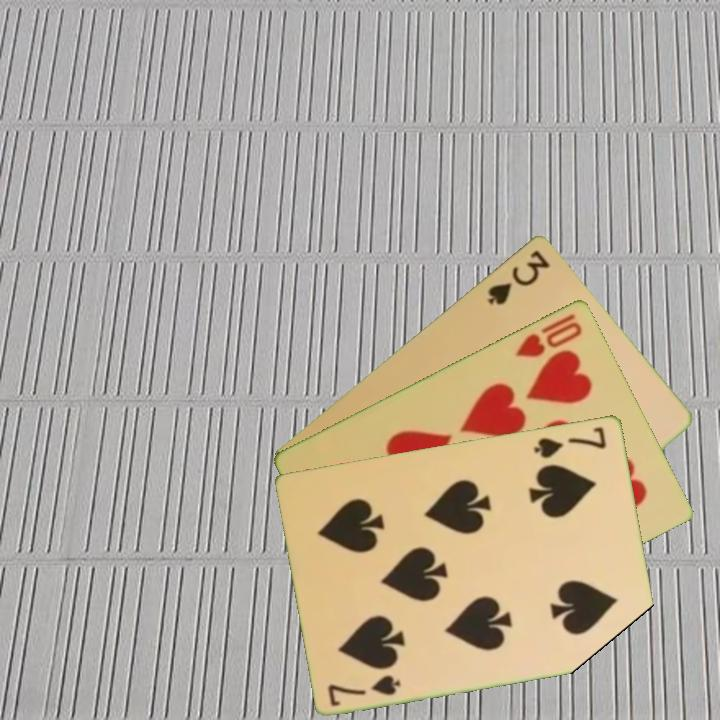10h: (512, 309, 586, 360)
3s: (484, 246, 553, 308)
7s: (530, 422, 610, 461), (325, 671, 404, 709)
